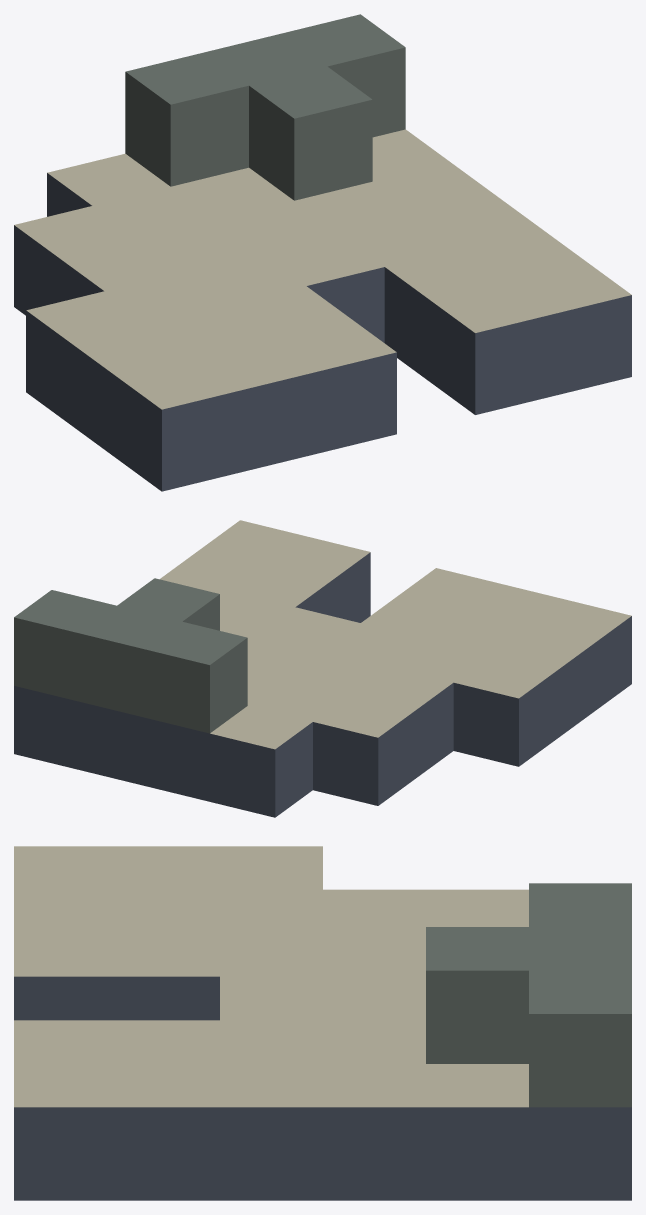
3 views of the same model, one above another, from view 1: azimuth 30°, elevation 25°; view 2: azimuth 150°, elevation 25°; view 3: azimuth 270°, elevation 25° (orthographic). The views are drawn at different scales.
Parts seen in each view (by area): view 1: 1.3; view 2: 1.3; view 3: 1.3.
Boxes of the visible parts, box(x1,y1,x2,y2) form: 1.3: box(14, 14, 631, 491); 1.3: box(14, 520, 631, 817); 1.3: box(14, 846, 631, 1200).
Size of the model in its own units: 600 by 200 by 600.
